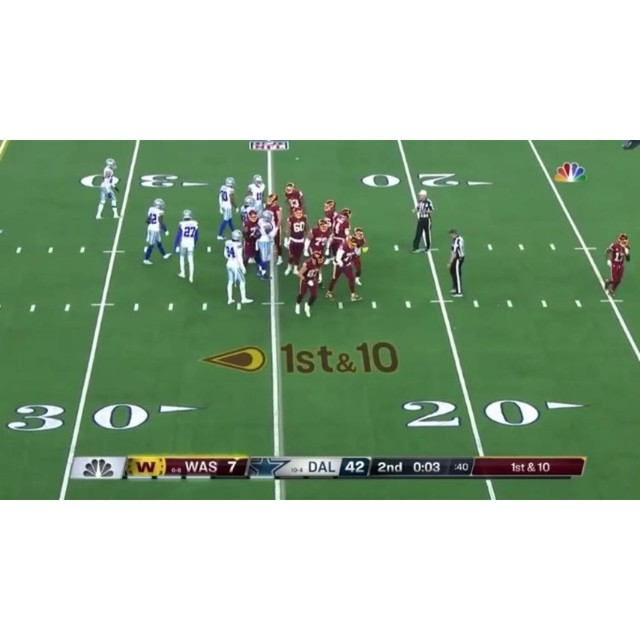american-football-player: (326, 239, 363, 301), (294, 248, 326, 318), (223, 230, 251, 308), (173, 209, 200, 282), (240, 202, 265, 277), (143, 198, 171, 264), (604, 233, 631, 296), (95, 158, 121, 220), (284, 209, 308, 276), (216, 176, 238, 240), (326, 208, 352, 260), (306, 218, 332, 259), (284, 182, 305, 215)
referee: (410, 190, 435, 252), (447, 227, 466, 296)
